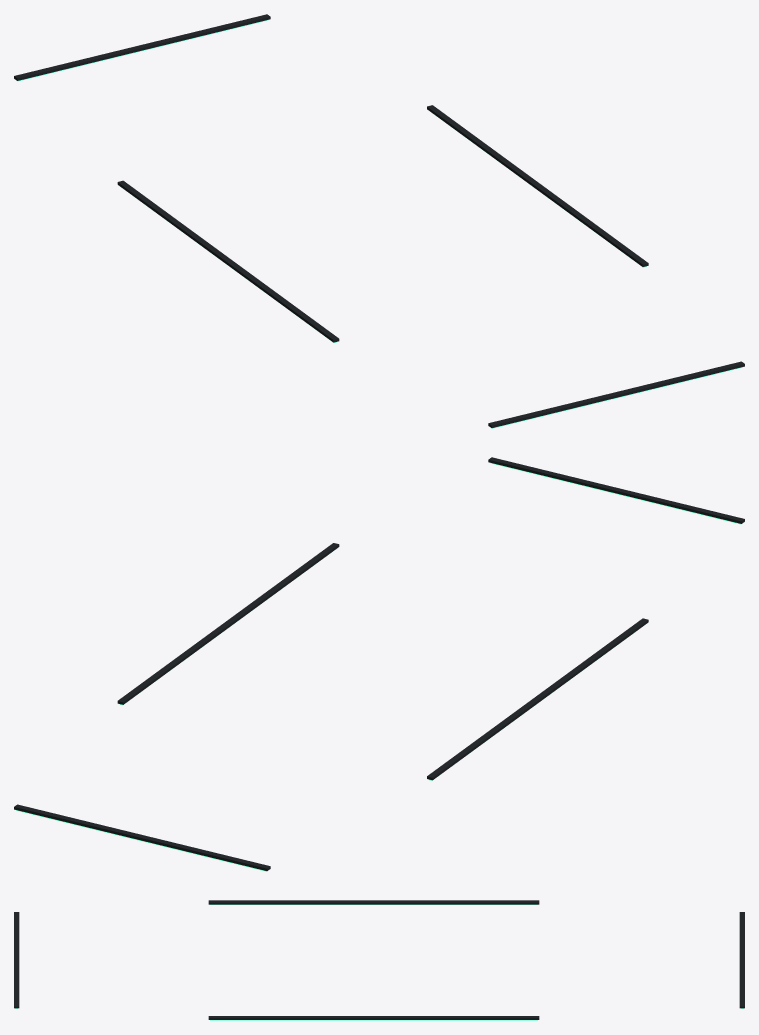
File: vortex_r.glb
3 renders of one model, top to bottom at view 1: azimuth 30°, elevation 25°; view 2: azimuth 150°, elevation 25°; view 3: azimuth 270°, elevation 25°, orthographic. The views are drawn at different scales.
Parts seen in each view (by area): view 1: model; view 2: model; view 3: model.
Part boxes in pixels (<box>): model: <box>14,14,744,428</box>; model: <box>14,457,744,871</box>; model: <box>14,900,744,1020</box>.
Bounding box in the file's own units: 1.51 × 0.0179 × 3.96.
Materials: 2 (1 with a texture image).
